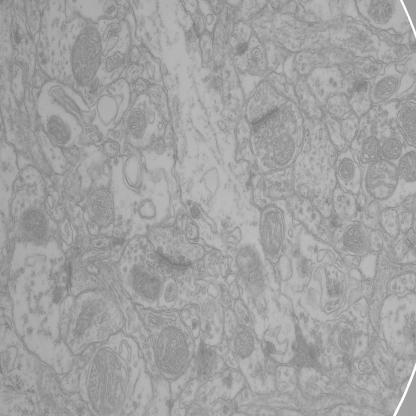mitochondria: (86, 345, 132, 414), (70, 24, 104, 90), (234, 245, 266, 299), (156, 327, 189, 378), (128, 262, 166, 304), (364, 160, 399, 202), (73, 298, 105, 340), (258, 209, 285, 258), (20, 204, 51, 244), (44, 112, 72, 148), (272, 132, 296, 170), (342, 222, 370, 254), (372, 74, 401, 104), (126, 104, 149, 141), (358, 134, 382, 168), (233, 327, 256, 362), (398, 150, 416, 184), (380, 136, 402, 162), (338, 156, 356, 186), (338, 328, 354, 354)
